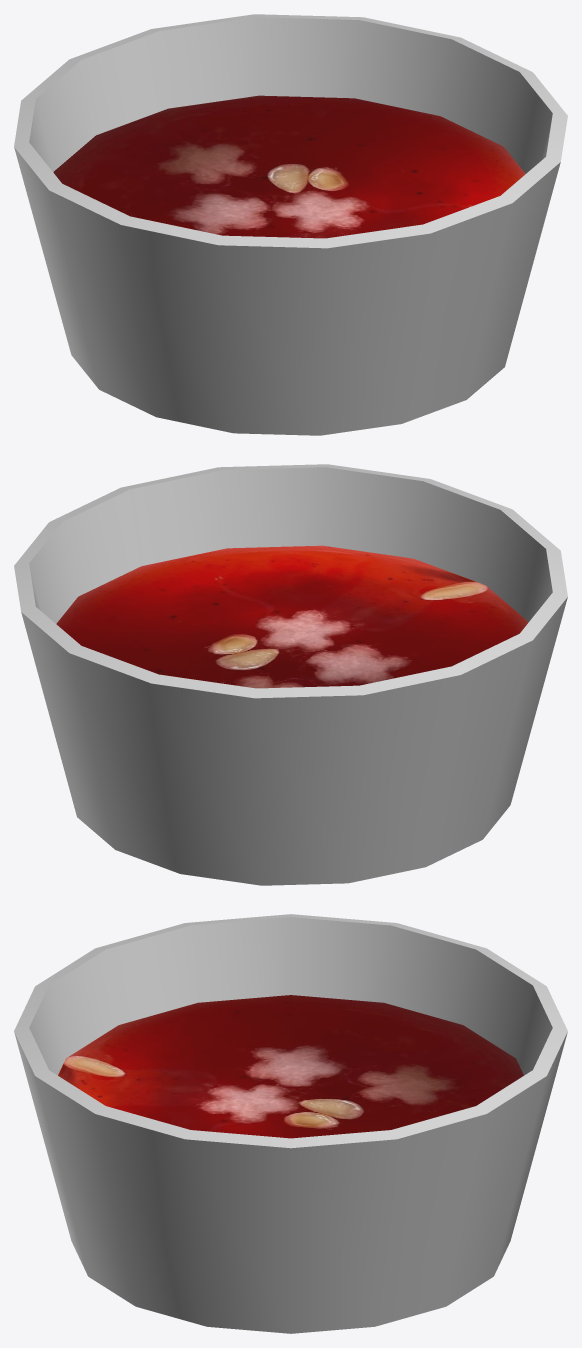
Rendered from omijacha.fbx.
The picture shows the model from 3 angles, top to bottom: view 1: azimuth 30°, elevation 25°; view 2: azimuth 150°, elevation 25°; view 3: azimuth 270°, elevation 25°; orthographic projection.
Visible parts, largest first — view 1: Dish, Chrysanthemum_Tea; view 2: Dish, Chrysanthemum_Tea; view 3: Dish, Chrysanthemum_Tea.
Part boxes in pixels (<box>): Dish: <box>14,14,567,435</box>; Chrysanthemum_Tea: <box>53,95,525,238</box>; Dish: <box>14,464,567,885</box>; Chrysanthemum_Tea: <box>56,545,528,688</box>; Dish: <box>14,914,567,1333</box>; Chrysanthemum_Tea: <box>58,995,523,1138</box>.
Size of the model in its own units: 106 by 46.89 by 106.
1 material, 1 textured.
